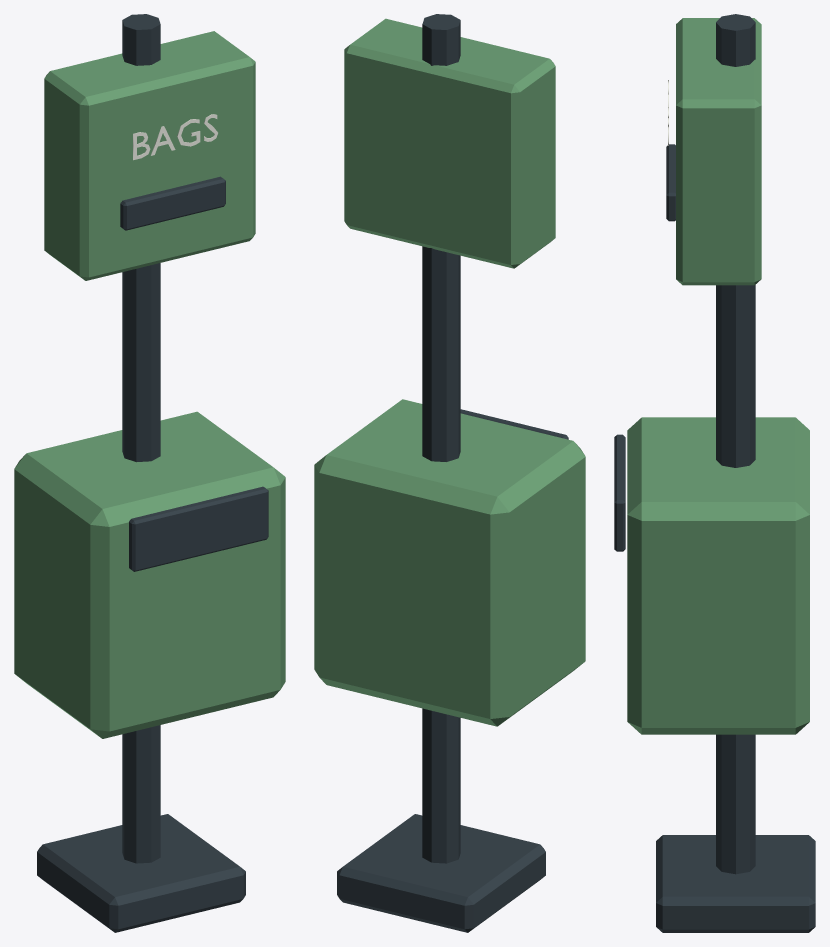
The model's file is Dog_Waste_Station.glb.
The picture shows the model from 3 angles, left to right: view 1: azimuth 30°, elevation 25°; view 2: azimuth 150°, elevation 25°; view 3: azimuth 270°, elevation 25°; orthographic projection.
Visible parts, largest first — view 1: Dog_Waste_Station; view 2: Dog_Waste_Station; view 3: Dog_Waste_Station.
Part boxes in pixels (x1,y1,x2,y2): Dog_Waste_Station: (14, 14, 285, 932); Dog_Waste_Station: (314, 14, 585, 932); Dog_Waste_Station: (614, 14, 815, 932).
Size of the model in its own units: 0.4 by 1.7 by 0.353.
